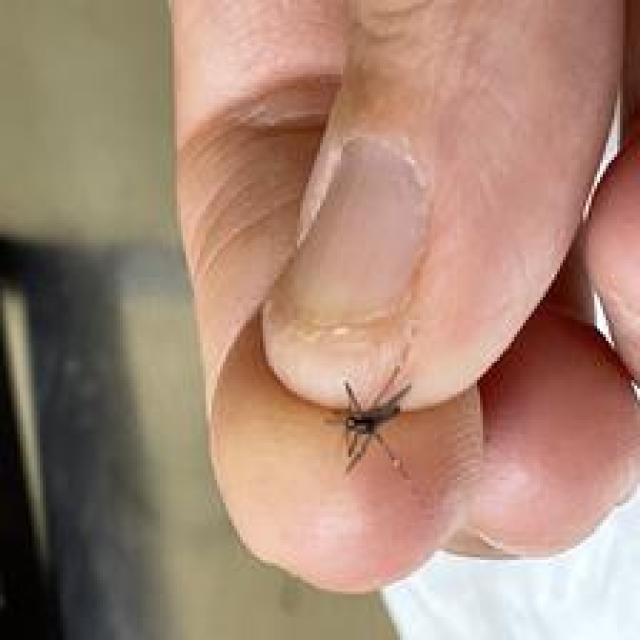Aedes albopictus: (323, 364, 414, 479)
